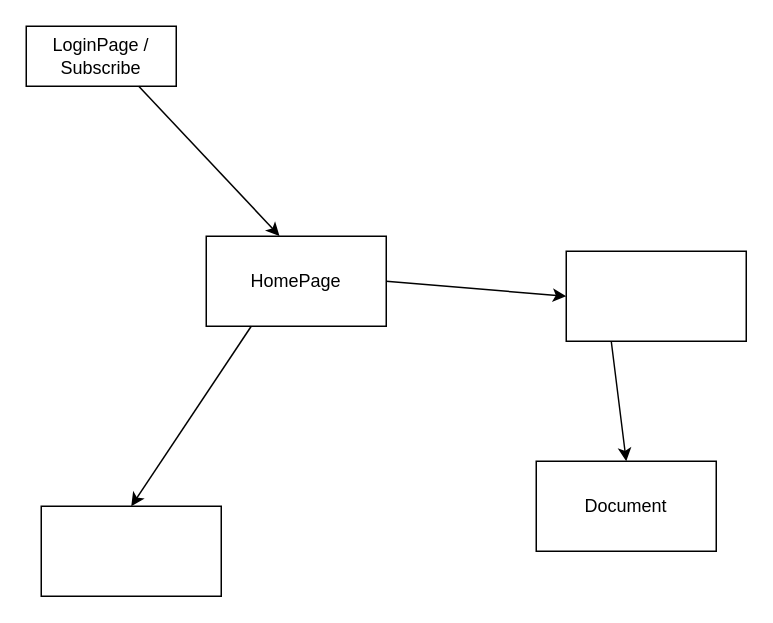
The diagram is 773 pixels wide and 623 high, and some of its shapes have lost their labels. Each missing label, with the centre of its shape:
"ContentManager" belongs at point 130,550.
"Documents" belongs at point 655,295.
